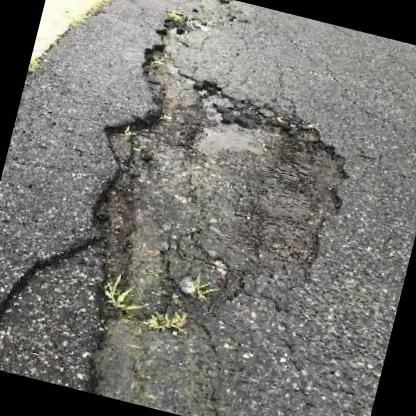pothole: (54, 5, 380, 368)
